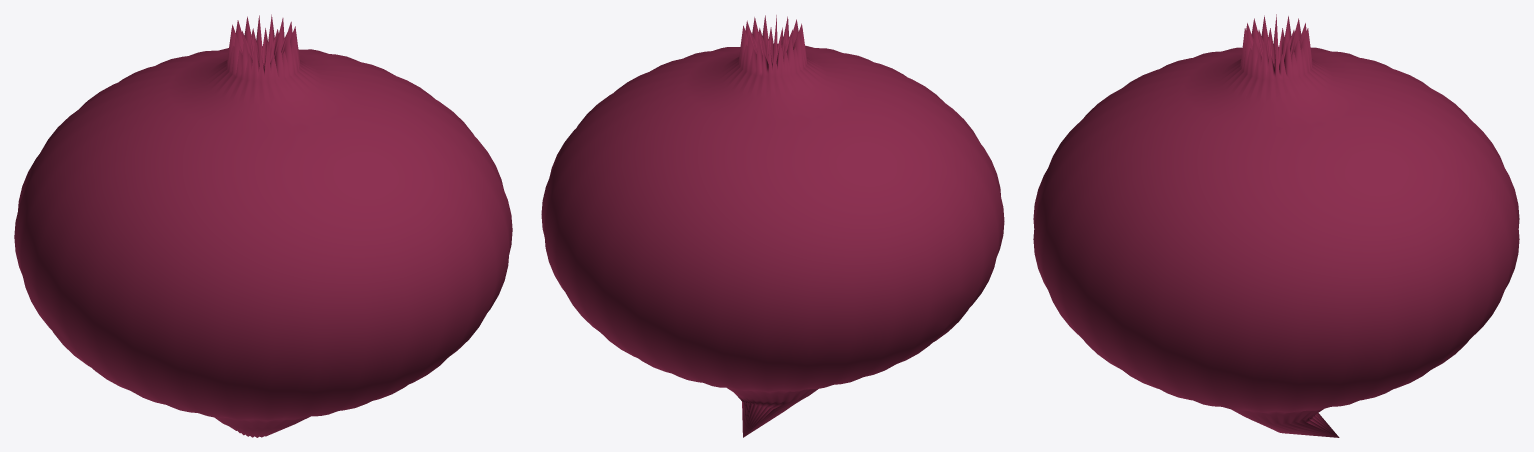
Rendered from onion.obj.
3 views of the same model, side by side, from view 1: azimuth 30°, elevation 25°; view 2: azimuth 150°, elevation 25°; view 3: azimuth 270°, elevation 25° (orthographic). The views are drawn at different scales.
Visible parts, largest first — view 1: Sphere001; view 2: Sphere001; view 3: Sphere001.
Boxes of the visible parts, bbox=[...] form: Sphere001: bbox=[14, 14, 512, 437]; Sphere001: bbox=[541, 15, 1004, 437]; Sphere001: bbox=[1033, 14, 1519, 437].
Bounding box in the file's own units: 14.46 × 13.48 × 14.46.
